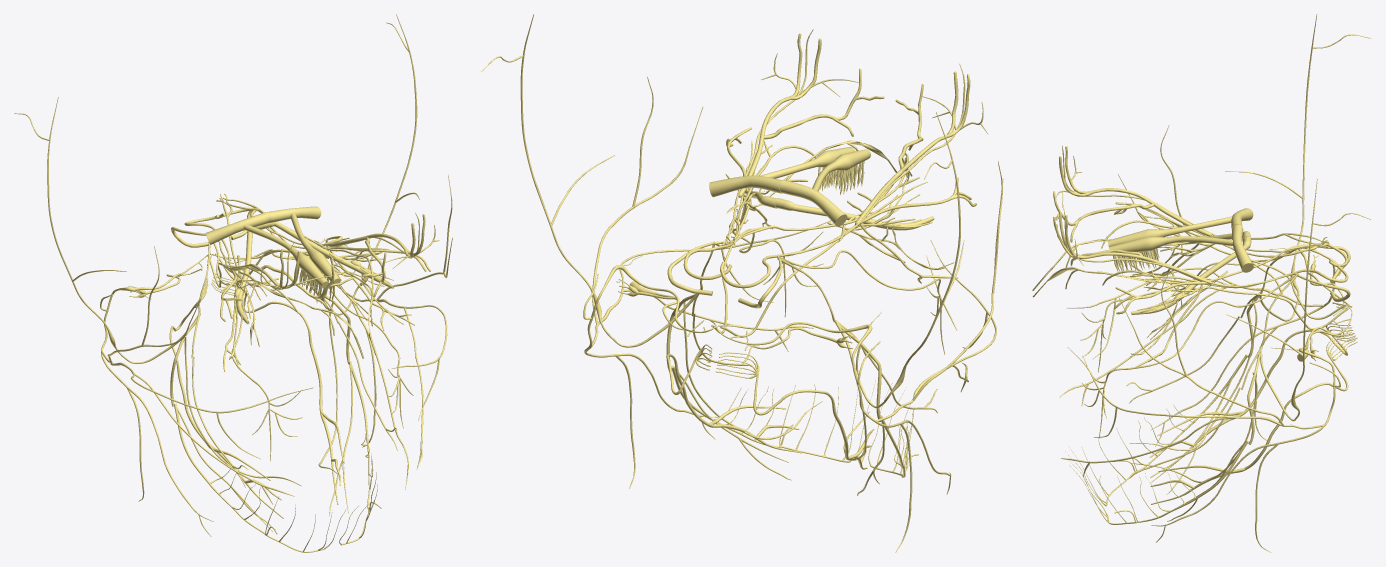
File: nerfs-tete.lo.glb
The picture shows the model from 3 angles, left to right: view 1: azimuth 30°, elevation 25°; view 2: azimuth 150°, elevation 25°; view 3: azimuth 270°, elevation 25°; orthographic projection. The views are drawn at different scales.
Visible parts, largest first — view 1: ZA-facial-nerve-vii-d, ZA-facial-nerve-vii-g, ZA-olfactory-nerve-i-d, ZA-olfactory-nerve-i-g, ZA-hypoglossal-nerve-xii-g, ZA-hypoglossal-nerve-xii-d, ZA-meningeal-branch-of-maxillary-nerve-d, ZA-inferior-alveolar-nerve-d, ZA-meningeal-branch-of-maxillary-nerve-g, ZA-inferior-alveolar-nerve-g, ZA-oculomotor-nerve-iii-g, ZA-maxillary-nerve-d (+2 smaller); view 2: ZA-facial-nerve-vii-g, ZA-facial-nerve-vii-d, ZA-olfactory-nerve-i-d, ZA-olfactory-nerve-i-g, ZA-meningeal-branch-of-maxillary-nerve-g, ZA-hypoglossal-nerve-xii-g, ZA-hypoglossal-nerve-xii-d, ZA-meningeal-branch-of-maxillary-nerve-d, ZA-inferior-alveolar-nerve-g, ZA-oculomotor-nerve-iii-d, ZA-ophthalmic-nerve-d, ZA-optic-nerve-ii-d (+8 smaller); view 3: ZA-facial-nerve-vii-g, ZA-facial-nerve-vii-d, ZA-olfactory-nerve-i-g, ZA-hypoglossal-nerve-xii-g, ZA-olfactory-nerve-i-d, ZA-hypoglossal-nerve-xii-d, ZA-meningeal-branch-of-maxillary-nerve-d, ZA-meningeal-branch-of-maxillary-nerve-g, ZA-inferior-alveolar-nerve-g, ZA-inferior-alveolar-nerve-d, ZA-oculomotor-nerve-iii-g, ZA-maxillary-nerve-g (+17 smaller).
Part boxes in pixels (x1,y1,x2,y2): ZA-facial-nerve-vii-d: [100, 246, 313, 536]; ZA-facial-nerve-vii-g: [212, 174, 452, 489]; ZA-olfactory-nerve-i-d: [205, 212, 328, 303]; ZA-olfactory-nerve-i-g: [267, 206, 340, 301]; ZA-hypoglossal-nerve-xii-g: [211, 273, 343, 504]; ZA-hypoglossal-nerve-xii-d: [169, 277, 283, 518]; ZA-meningeal-branch-of-maxillary-nerve-d: [14, 97, 200, 363]; ZA-inferior-alveolar-nerve-d: [173, 404, 345, 552]; ZA-meningeal-branch-of-maxillary-nerve-g: [315, 14, 419, 315]; ZA-inferior-alveolar-nerve-g: [339, 361, 381, 545]; ZA-oculomotor-nerve-iii-g: [223, 193, 414, 330]; ZA-maxillary-nerve-d: [213, 243, 302, 461]; ZA-facial-nerve-vii-g: [583, 76, 830, 488]; ZA-facial-nerve-vii-d: [716, 161, 1003, 552]; ZA-olfactory-nerve-i-d: [780, 149, 870, 226]; ZA-olfactory-nerve-i-g: [709, 147, 855, 197]; ZA-meningeal-branch-of-maxillary-nerve-g: [481, 14, 703, 347]; ZA-hypoglossal-nerve-xii-g: [666, 344, 801, 453]; ZA-hypoglossal-nerve-xii-d: [715, 352, 874, 469]; ZA-meningeal-branch-of-maxillary-nerve-d: [835, 112, 964, 408]; ZA-inferior-alveolar-nerve-g: [671, 365, 875, 462]; ZA-oculomotor-nerve-iii-d: [729, 172, 958, 283]; ZA-ophthalmic-nerve-d: [777, 63, 987, 259]; ZA-optic-nerve-ii-d: [775, 198, 934, 230]; ZA-facial-nerve-vii-g: [1061, 269, 1352, 552]; ZA-facial-nerve-vii-d: [1059, 125, 1351, 446]; ZA-olfactory-nerve-i-g: [1109, 224, 1253, 274]; ZA-hypoglossal-nerve-xii-g: [1150, 329, 1357, 504]; ZA-olfactory-nerve-i-d: [1107, 208, 1253, 266]; ZA-hypoglossal-nerve-xii-d: [1149, 323, 1357, 477]; ZA-meningeal-branch-of-maxillary-nerve-d: [1225, 14, 1371, 321]; ZA-meningeal-branch-of-maxillary-nerve-g: [1226, 179, 1371, 421]; ZA-inferior-alveolar-nerve-g: [1068, 440, 1248, 524]; ZA-inferior-alveolar-nerve-d: [1065, 354, 1248, 506]; ZA-oculomotor-nerve-iii-g: [1102, 240, 1329, 368]; ZA-maxillary-nerve-g: [1081, 274, 1296, 438].
Size of the model in its own units: 0.1558 by 0.1661 by 0.123.
